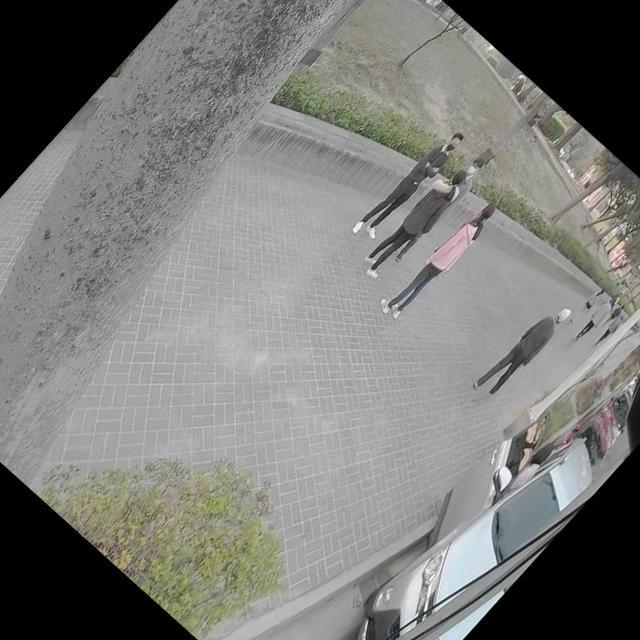person: (378, 190, 503, 326), (383, 144, 500, 270), (351, 125, 464, 246), (361, 164, 466, 277), (478, 292, 577, 398), (571, 295, 618, 345), (567, 284, 606, 326), (592, 308, 628, 346)
